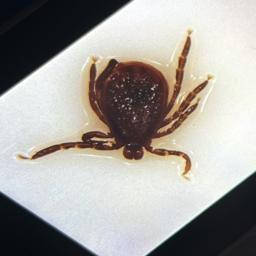Ixodes scapularis: (14, 29, 215, 175)
